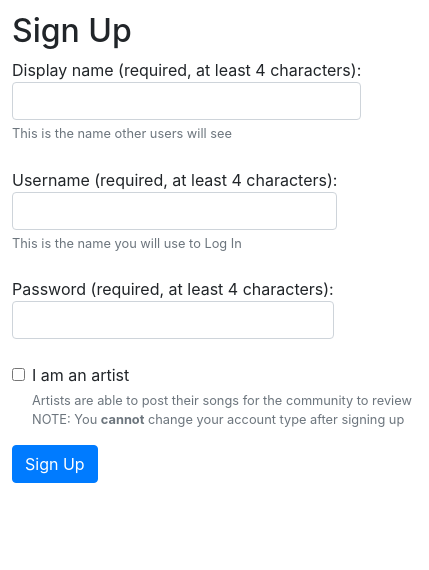
shows errors if required fields are empty
Click the button "Sign Up". click: (55, 464)
box: [12,445,98,483]
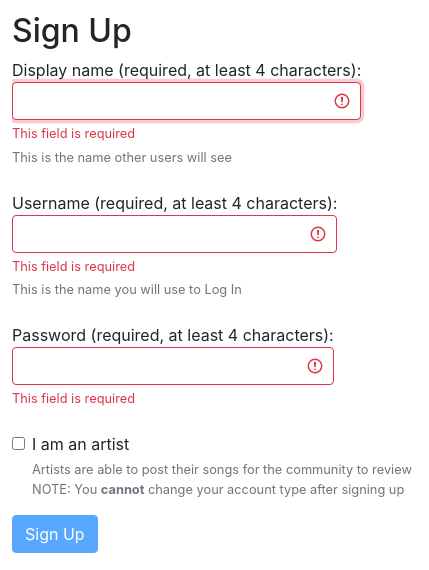
Result: the text "This field is required" is shown 3 times at [12,126,135,141]; [12,259,135,274]; [12,391,135,406]
